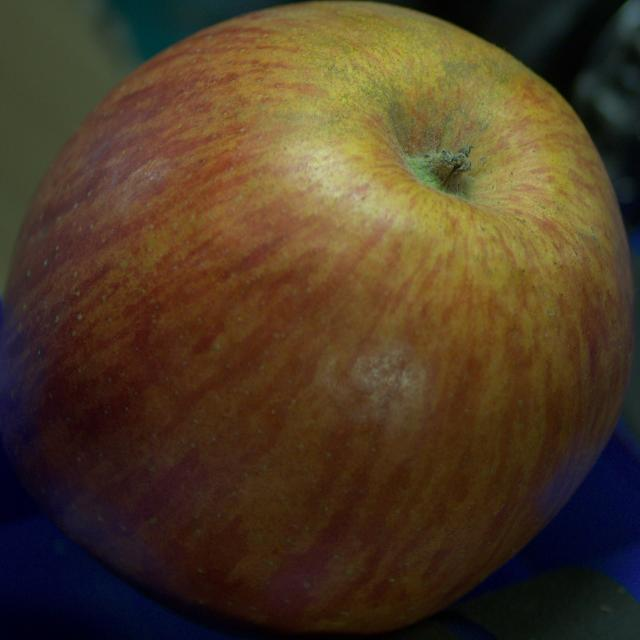apple: (0, 2, 633, 634)
